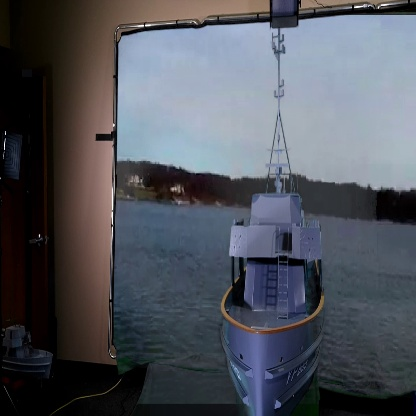YP689: (220, 30, 326, 416)
